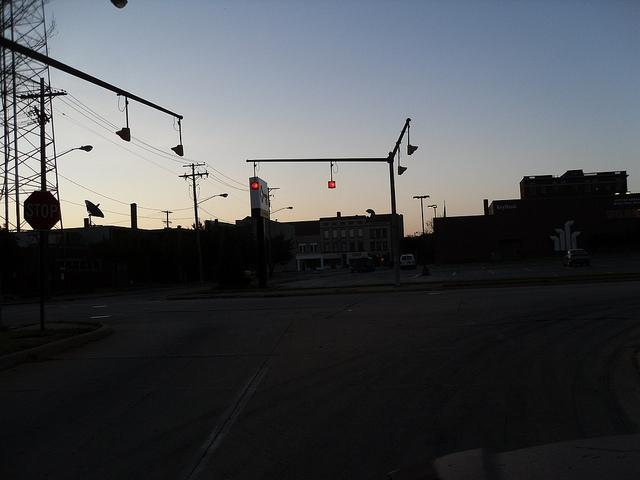car: (562, 248, 590, 267), (399, 254, 416, 270)
